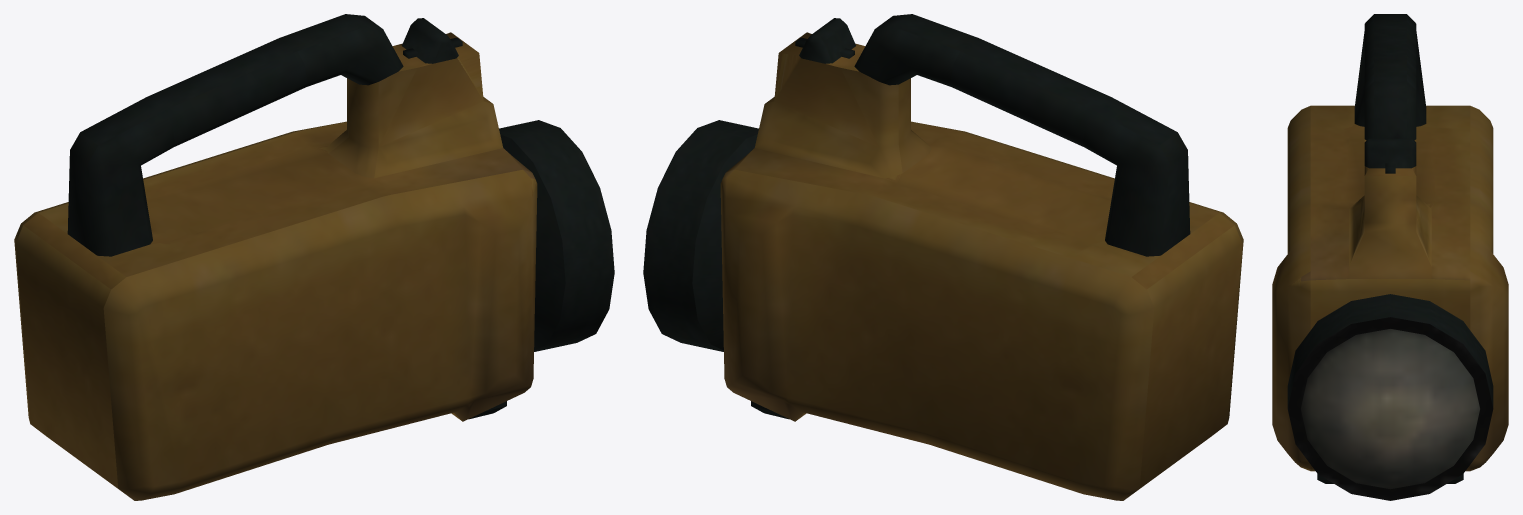
File: flashlight_1.obj
The picture shows the model from 3 angles, left to right: view 1: azimuth 30°, elevation 25°; view 2: azimuth 150°, elevation 25°; view 3: azimuth 270°, elevation 25°; orthographic projection. The views are drawn at different scales.
Visible parts, largest first — view 1: flashlight_1; view 2: flashlight_1; view 3: flashlight_1.
Boxes of the visible parts, <box> form: flashlight_1: <box>14,14,614,500</box>; flashlight_1: <box>643,14,1243,500</box>; flashlight_1: <box>1272,14,1508,500</box>.
Bounding box in the file's own units: 0.3851 × 0.2745 × 0.1656.
